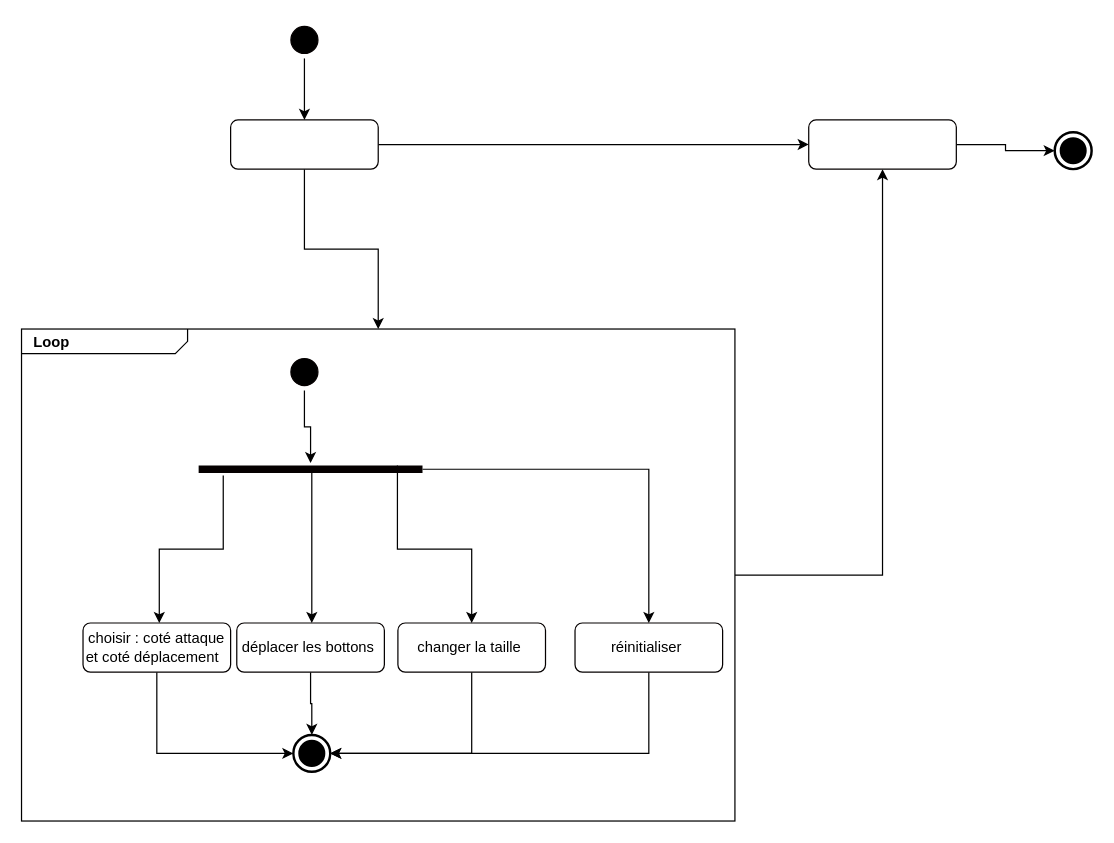
The diagram is 1114 pixels wide and 843 high, and some of its shapes have lost their labels. Here are the shapes that lost their labels. From the top down, the centre of each, then its label:
point (303, 144): modifier contrôles
point (881, 144): enregistrer
